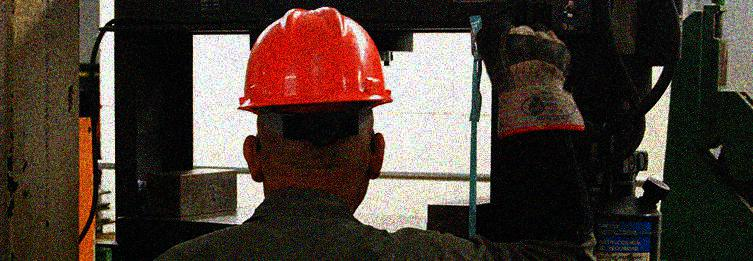helmet: (235, 8, 396, 218)
